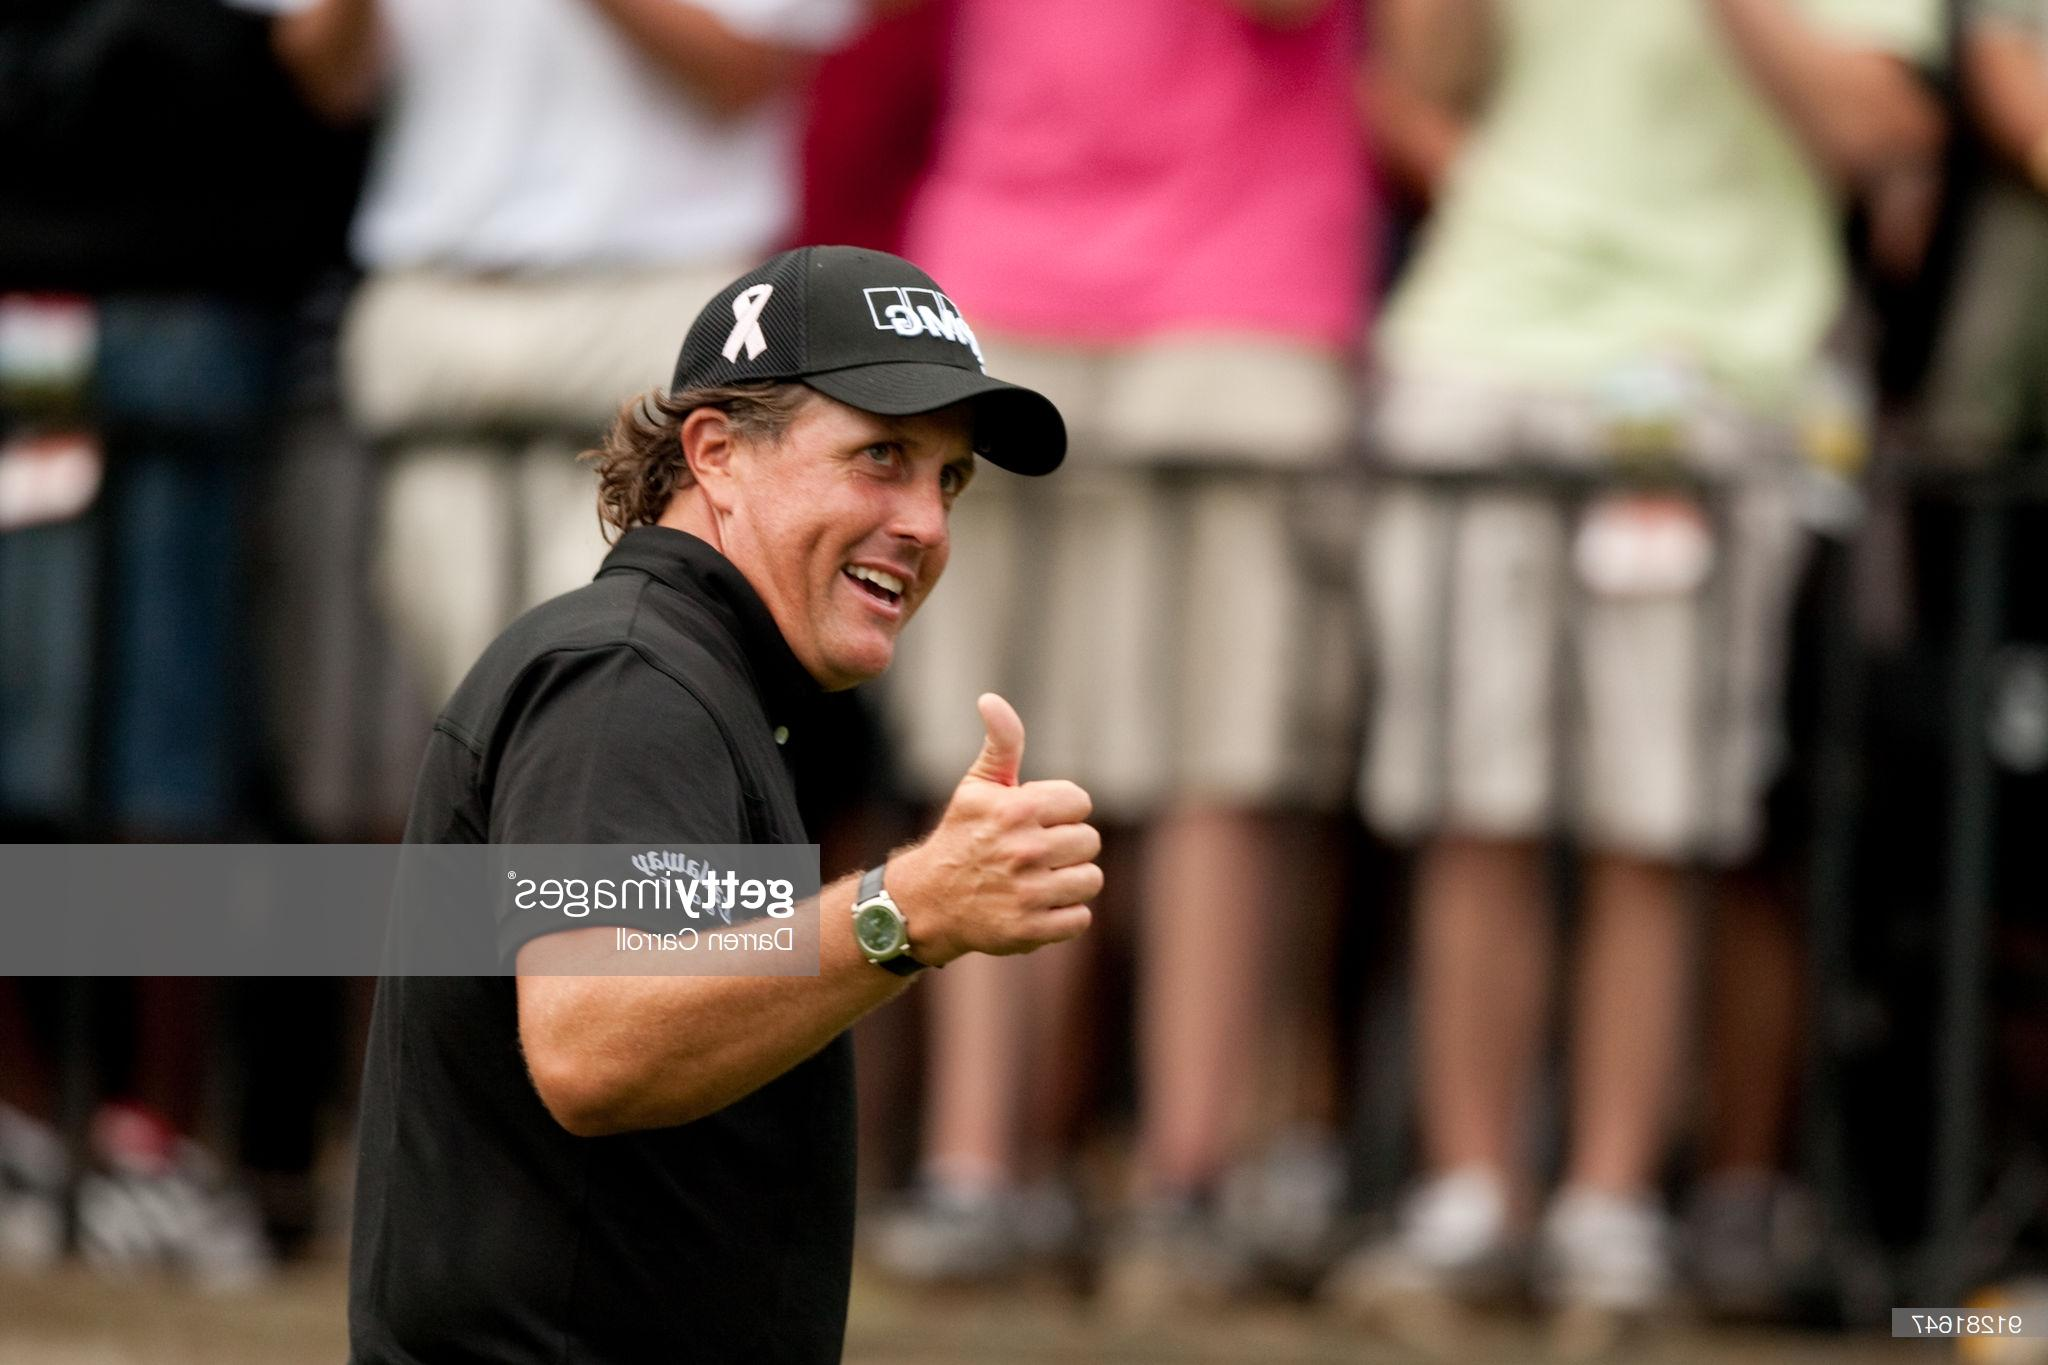thumbsup: (968, 692, 1105, 954)
